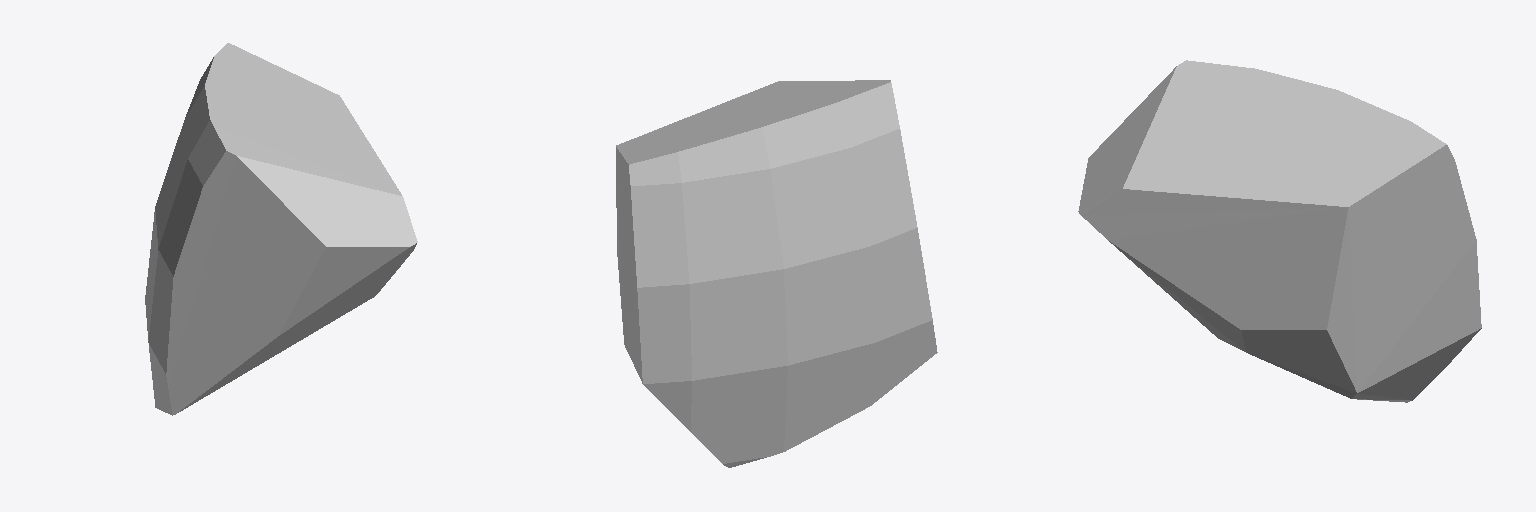
The model's file is Sphere_Cell_Fracture55.obj.
3 renders of one model, left to right at view 1: azimuth 30°, elevation 25°; view 2: azimuth 150°, elevation 25°; view 3: azimuth 270°, elevation 25°, orthographic.
Bounding box in the file's own units: 0.5612 × 0.6705 × 0.7704.